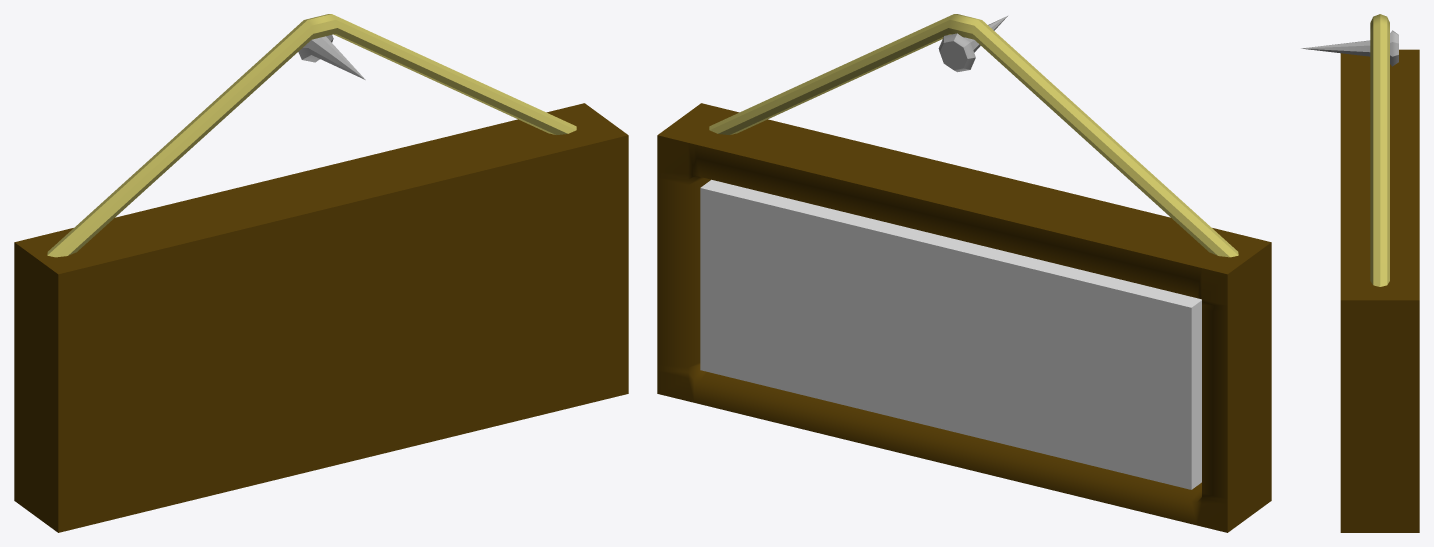
Rendered from Sign.fbx.
The picture shows the model from 3 angles, left to right: view 1: azimuth 30°, elevation 25°; view 2: azimuth 150°, elevation 25°; view 3: azimuth 270°, elevation 25°; orthographic projection. The views are drawn at different scales.
Visible parts, largest first — view 1: pCube1, pCylinder1, pCone1; view 2: pCube1, pCylinder1, pCone1; view 3: pCube1, pCylinder1, pCone1.
Boxes of the visible parts, box(x1,y1,x2,y2) form: pCube1: box(14, 103, 628, 532); pCylinder1: box(47, 14, 576, 257); pCone1: box(298, 35, 365, 79); pCube1: box(657, 103, 1271, 532); pCylinder1: box(709, 14, 1238, 257); pCone1: box(938, 16, 1007, 72); pCube1: box(1340, 49, 1419, 532); pCylinder1: box(1370, 14, 1389, 286); pCone1: box(1301, 30, 1398, 66).
Bounding box in the file's own units: 3 × 2.17 × 0.6044.
